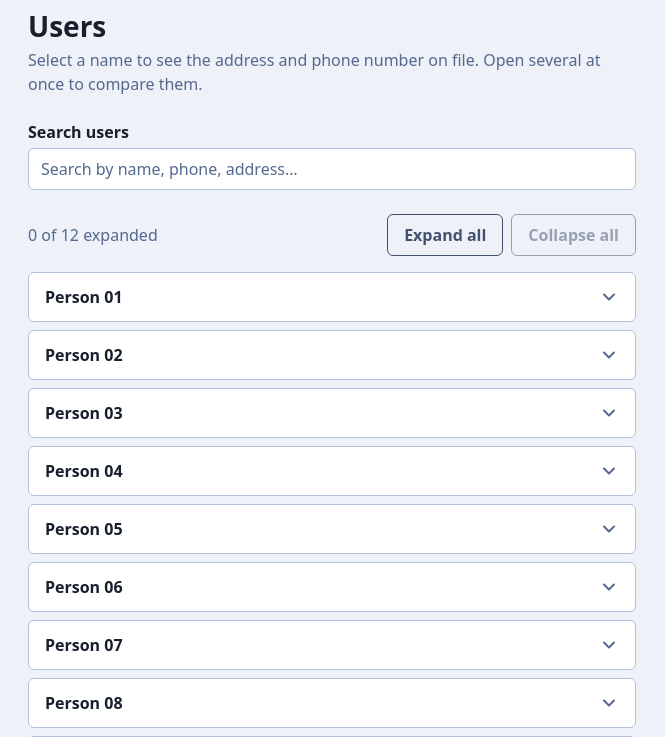
Scenario: UsersPage › suggestion pagination › fills the input with the selected suggestion and filters the list to it
Type "Person 0" into the dropdown labelled "Search users" at (332, 169), box [28, 148, 636, 190]
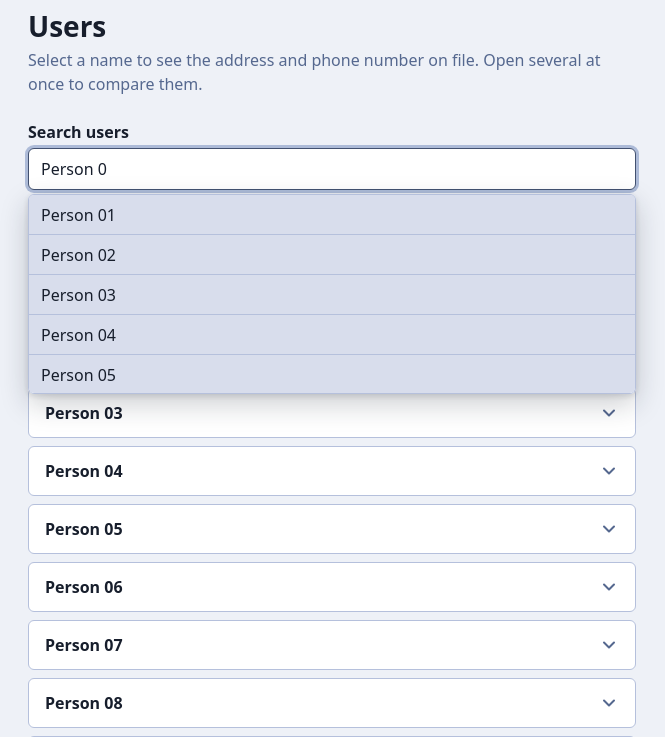
Click the option "Person 03" at (79, 295), box [29, 275, 635, 315]
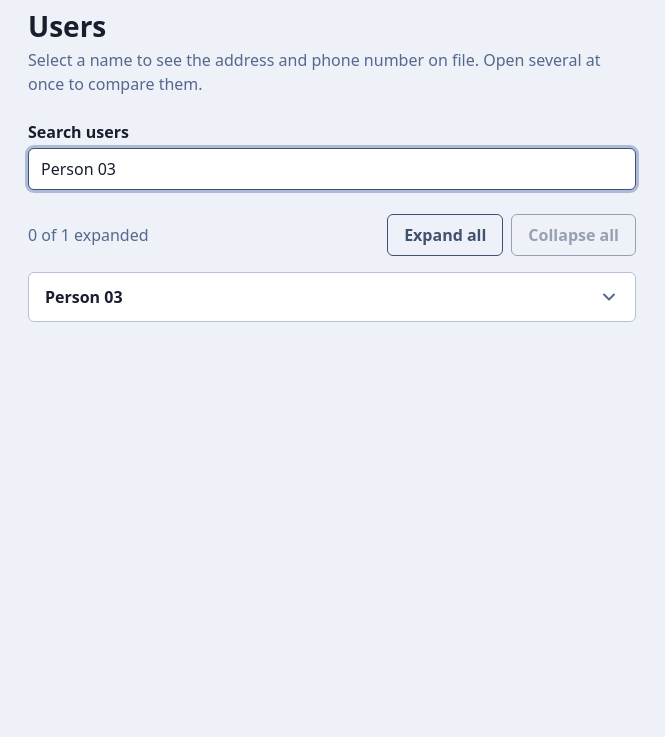
Result: the dropdown labelled "Search users" holds "Person 03" at [28, 148, 636, 190]
Result: the number of buttons "Person 03" is 1 at [29, 273, 635, 321]
